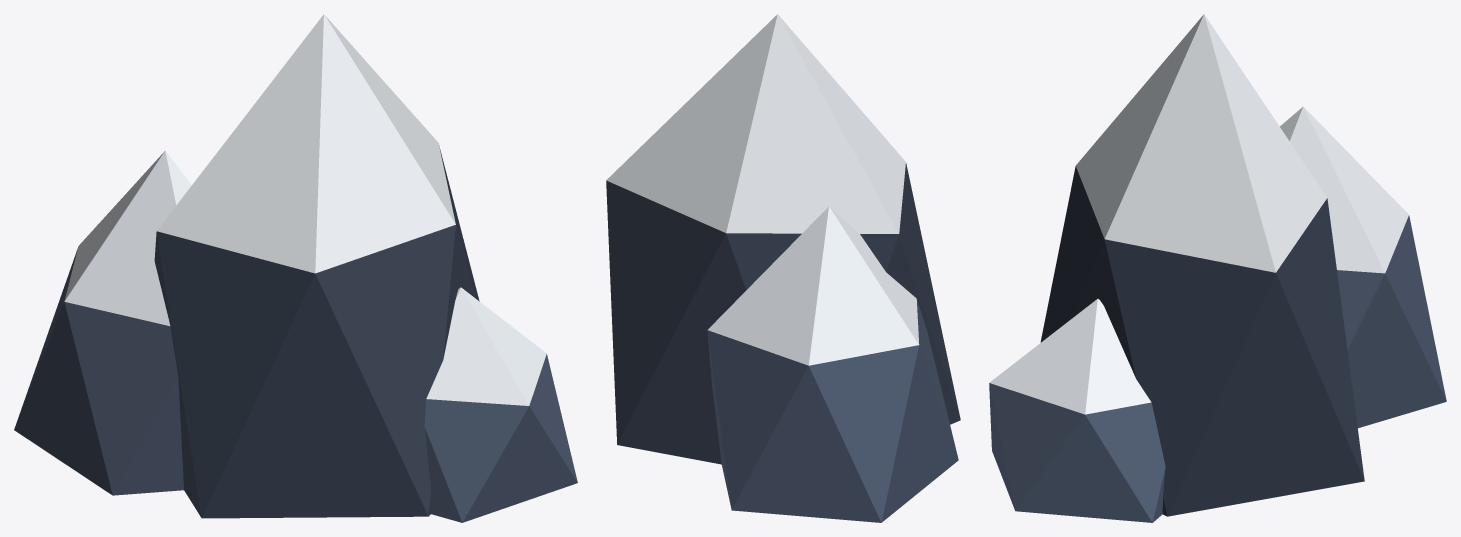
Rendered from Tundra_Env_Rocks.fbx.
3 renders of one model, left to right at view 1: azimuth 30°, elevation 25°; view 2: azimuth 150°, elevation 25°; view 3: azimuth 270°, elevation 25°, orthographic. The views are drawn at different scales.
Visible parts, largest first — view 1: Tundra_Env_Rocks; view 2: Tundra_Env_Rocks; view 3: Tundra_Env_Rocks.
Boxes of the visible parts, x1,y1,x2,y2 form: Tundra_Env_Rocks: (14,14,577,522); Tundra_Env_Rocks: (606,14,960,522); Tundra_Env_Rocks: (989,14,1446,522).
Size of the model in its own units: 3.11 by 3.29 by 3.23.
